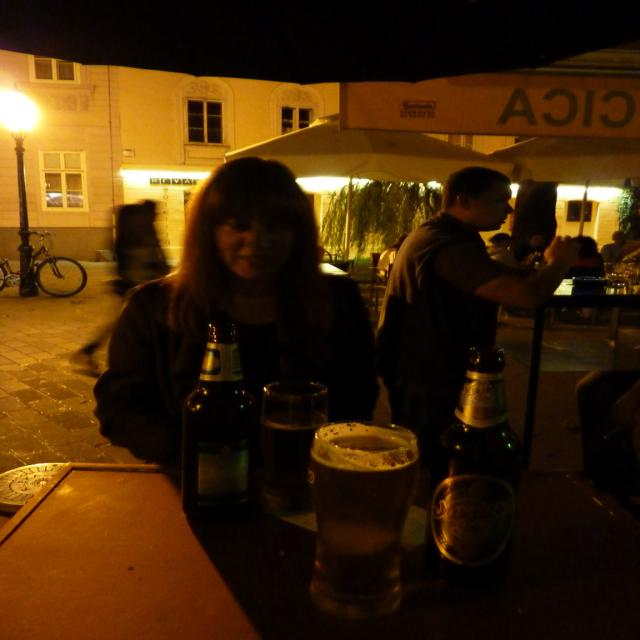Bicycle: (0, 214, 102, 328)
Bottle: (449, 329, 572, 565), (179, 304, 276, 526)
Cup: (310, 418, 418, 625)
People: (149, 163, 329, 403), (407, 129, 522, 335)
Table: (0, 453, 640, 640)
